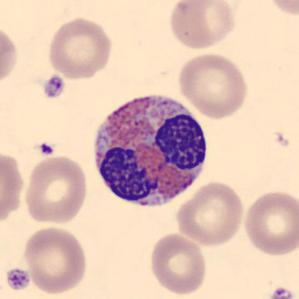Eosinophil: (86, 85, 215, 216)
Platelets: (4, 266, 32, 292), (41, 73, 66, 100), (266, 285, 296, 299), (38, 140, 56, 158)
RBC: (176, 51, 250, 120), (21, 154, 89, 227), (173, 180, 247, 247), (20, 225, 90, 295), (45, 15, 114, 81), (147, 231, 209, 297), (241, 188, 298, 257), (167, 0, 238, 51), (0, 148, 27, 228), (0, 22, 20, 88), (263, 0, 299, 18)
